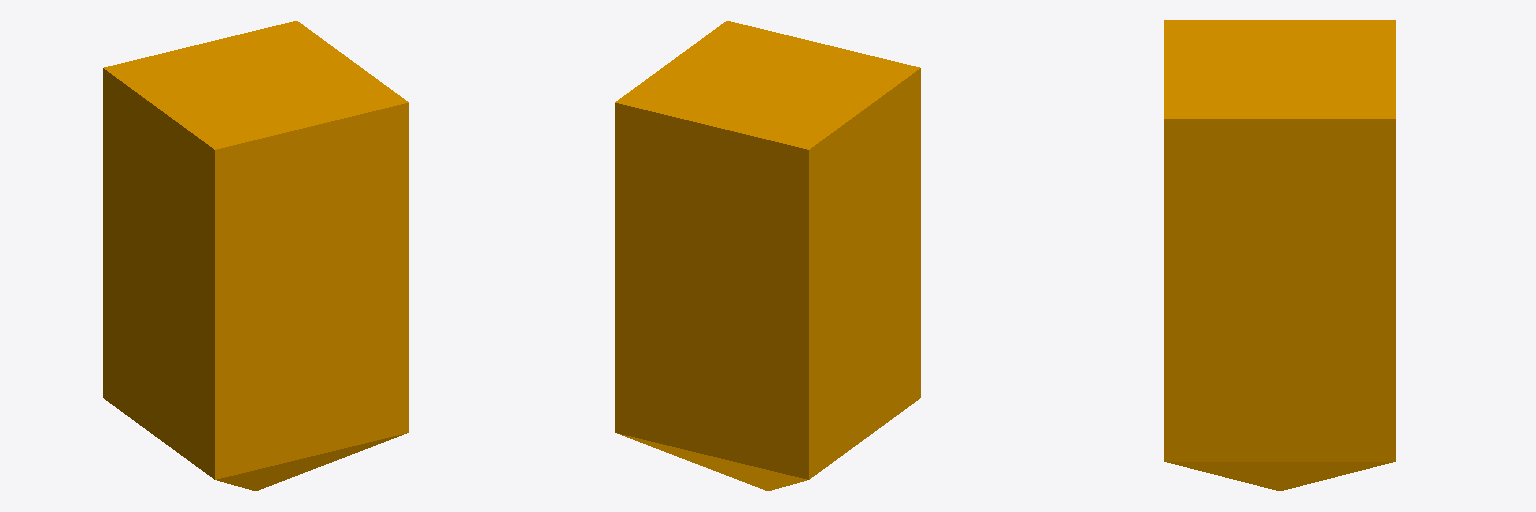
The robot description file, URDF, robot "peg_pyramid":
<?xml version="1.0"?>
<robot name="peg_pyramid">
    <link name="peg_pyramid">
        <visual>
            <geometry>
                <mesh filename="../mesh/vitascope_pegs/peg_pyramid.obj"/>
            </geometry>
        </visual>
        <collision>
            <geometry>
                <mesh filename="../mesh/vitascope_pegs/peg_pyramid.obj"/>
            </geometry>
            <sdf resolution="256"/>
        </collision>
    </link>
</robot>

--- Render facts (derived) ---
3 views of the same robot in one strip: view 1: azimuth 30°, elevation 25°; view 2: azimuth 150°, elevation 25°; view 3: azimuth 270°, elevation 25° (orthographic).
Robot: peg_pyramid — 1 links, 0 joints (none); root link peg_pyramid; default pose: all joints at 0.
Visible links, largest first — view 1: peg_pyramid; view 2: peg_pyramid; view 3: peg_pyramid.
Boxes of the visible links, <box> form: peg_pyramid: <box>103,21,408,490</box>; peg_pyramid: <box>615,21,920,490</box>; peg_pyramid: <box>1164,20,1395,490</box>.
Bounding box of the posed robot: 0.04 × 0.04 × 0.08 m (x, y, z).
1 mesh visuals loaded from 1 distinct referenced files (1 OBJ).
